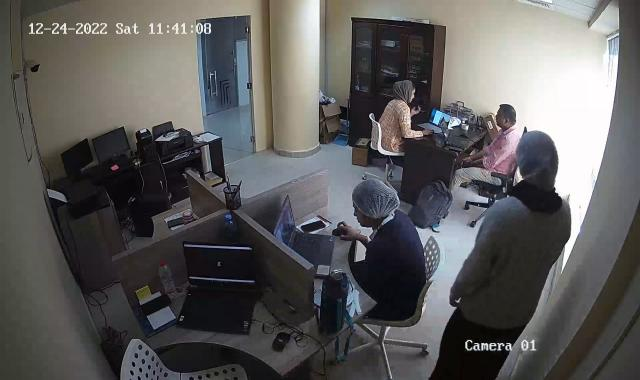hairnet: (518, 131, 559, 190), (353, 180, 398, 229)
no_hairnet: (392, 78, 416, 106), (496, 102, 517, 130)
